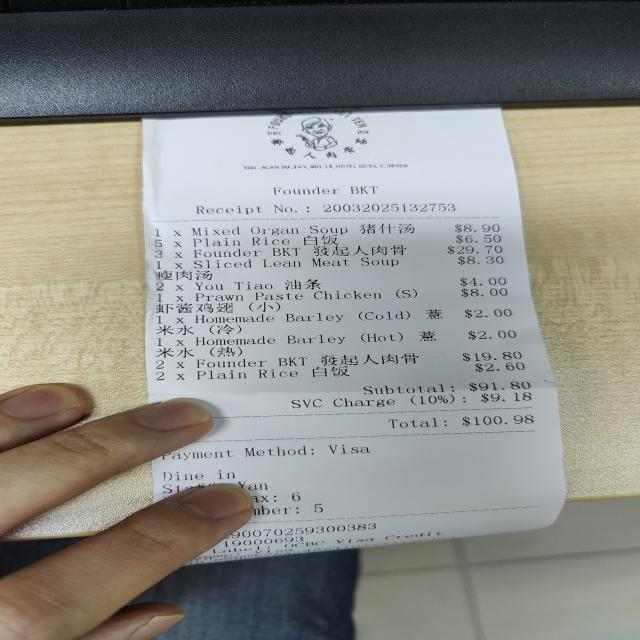bill_region: (147, 222, 539, 432)
